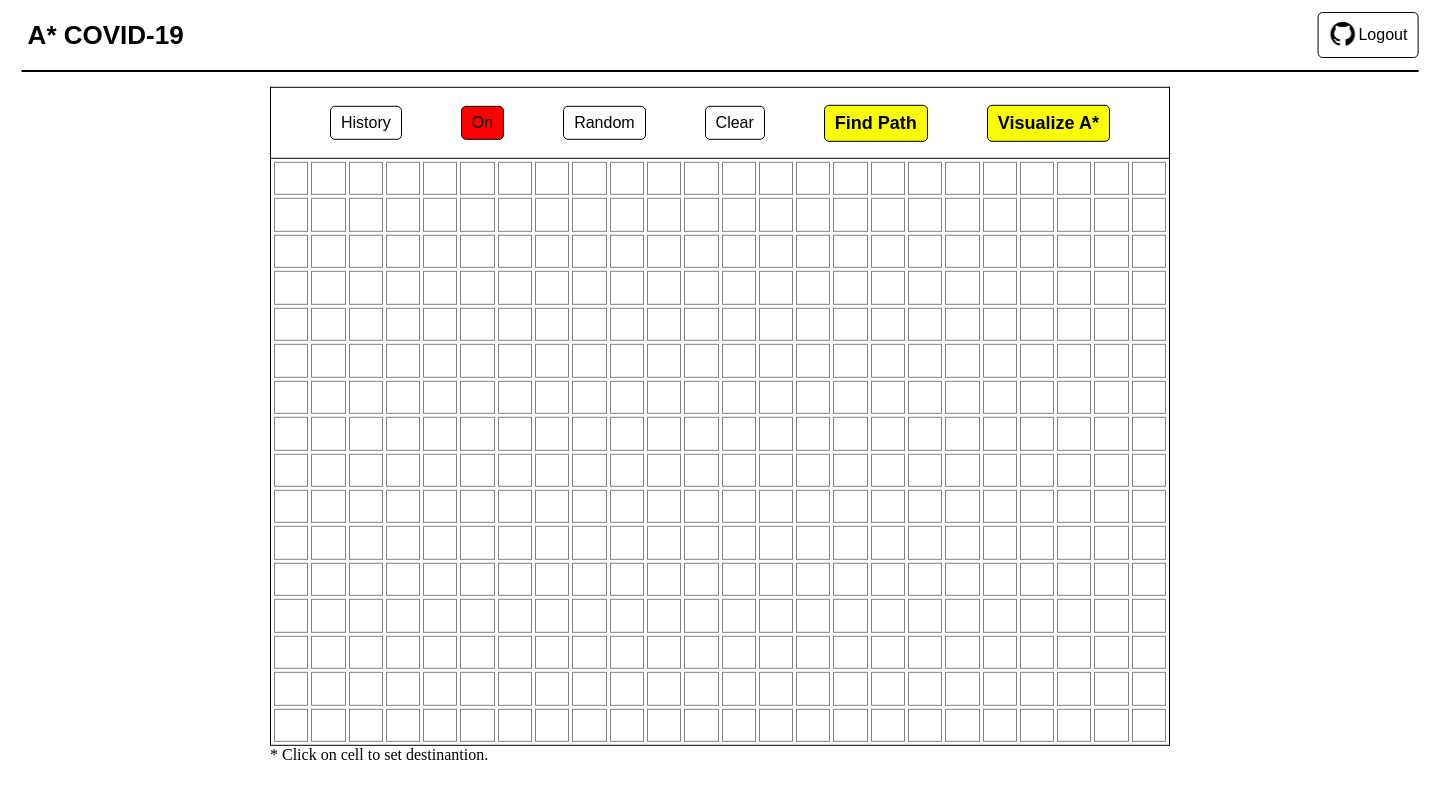
<MainPage /> › HistoryModal opens when history button is clicked
Click the button "History": (366, 123) 330,106 -> 402,140
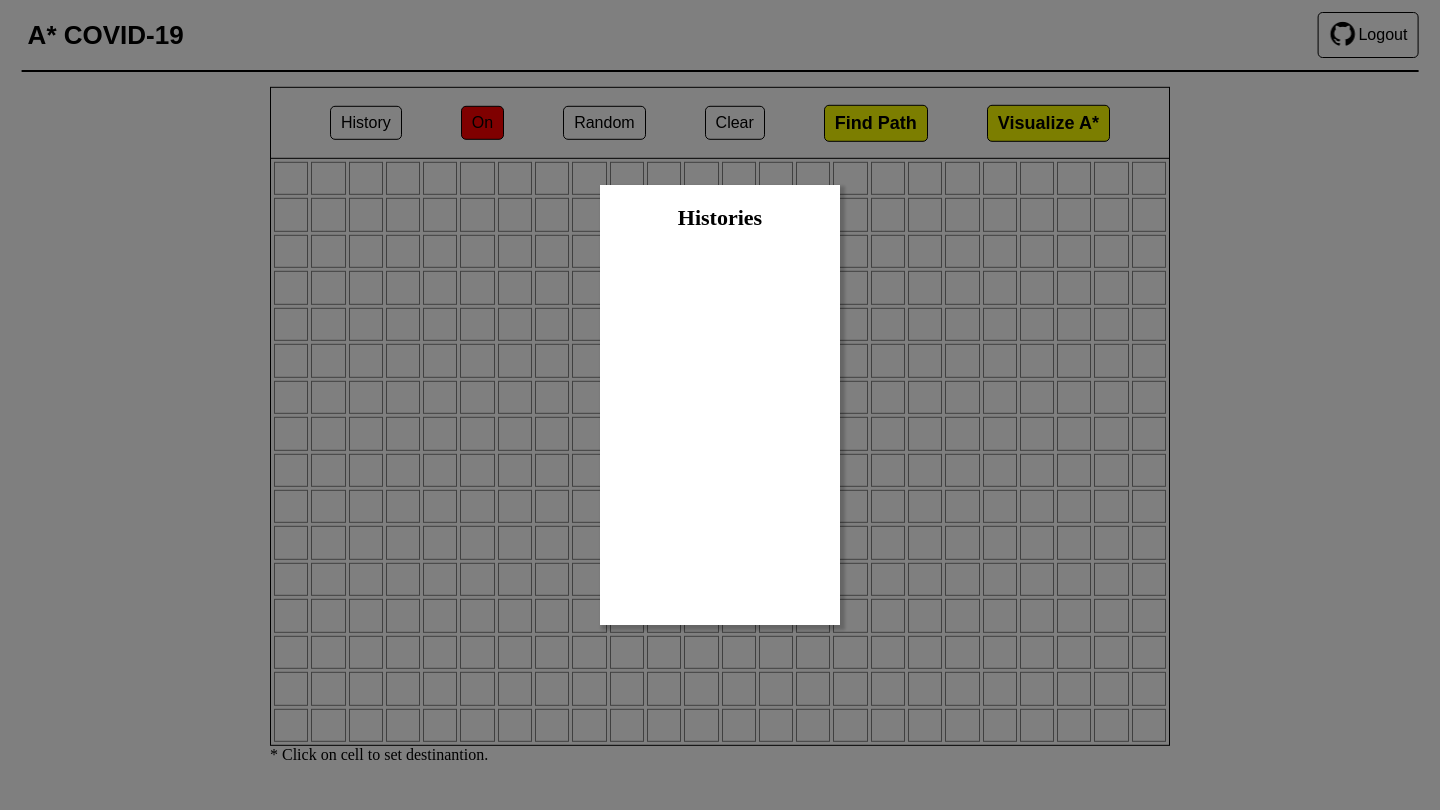
Expected: the text "Histories" is shown, 678,205 -> 762,230
